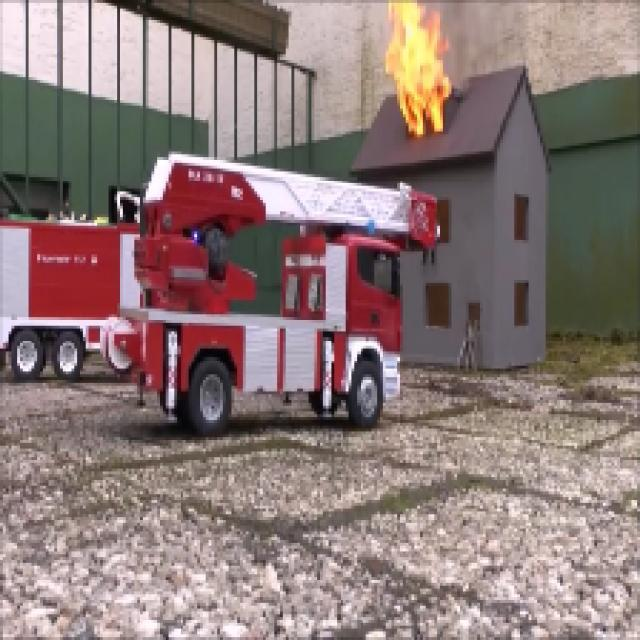Fire: (384, 2, 456, 142)
